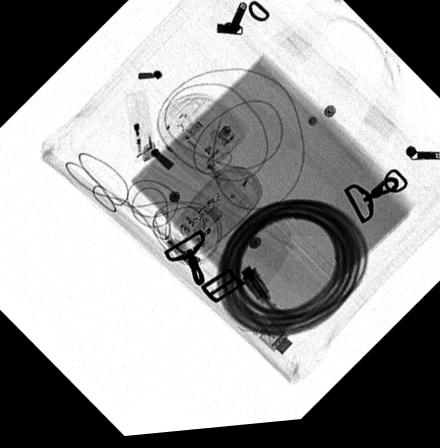Lighter: (124, 85, 157, 164)
